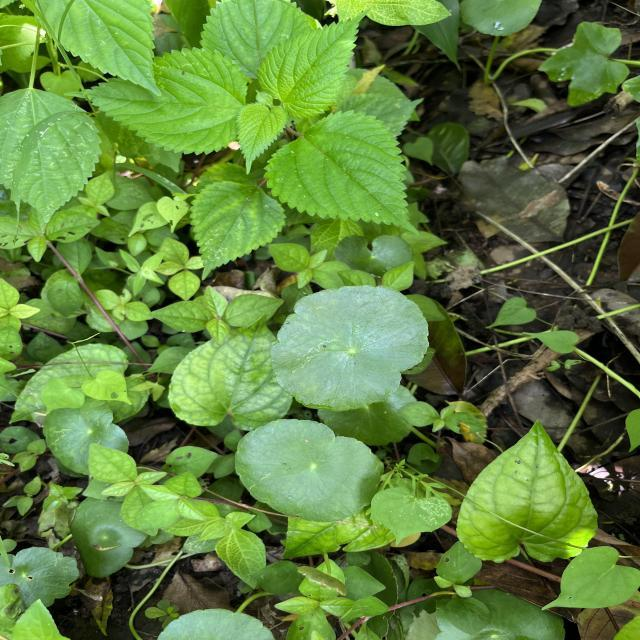Bacopa monnieri: (268, 283, 432, 413), (232, 416, 388, 524)
